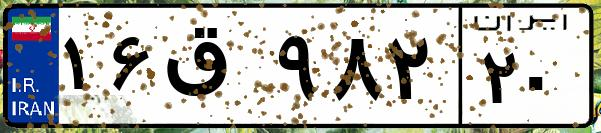0: (525, 38, 570, 115)
1: (57, 26, 110, 100)
2: (385, 28, 445, 110), (475, 38, 525, 113)
6: (110, 28, 158, 98)
8: (330, 28, 385, 110)
9: (270, 28, 330, 110)
ق: (158, 20, 270, 120)
